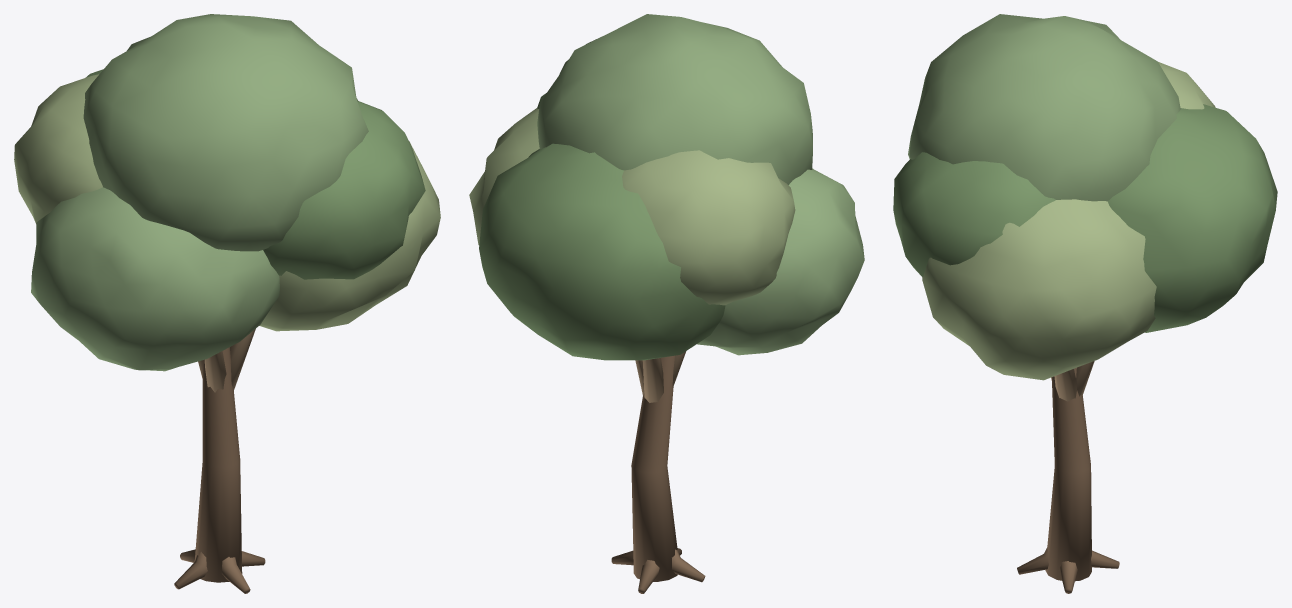
The model's file is SM_Broadleaf_1.fbx.
3 views of the same model, side by side, from view 1: azimuth 30°, elevation 25°; view 2: azimuth 150°, elevation 25°; view 3: azimuth 270°, elevation 25° (orthographic). The views are drawn at different scales.
Visible parts, largest first — view 1: SM_Broadleaf_1; view 2: SM_Broadleaf_1; view 3: SM_Broadleaf_1.
Part boxes in pixels (bbox=[...]): SM_Broadleaf_1: bbox=[14, 14, 440, 593]; SM_Broadleaf_1: bbox=[469, 14, 864, 593]; SM_Broadleaf_1: bbox=[893, 14, 1277, 593].
Size of the model in its own units: 781 by 720 by 1127.
